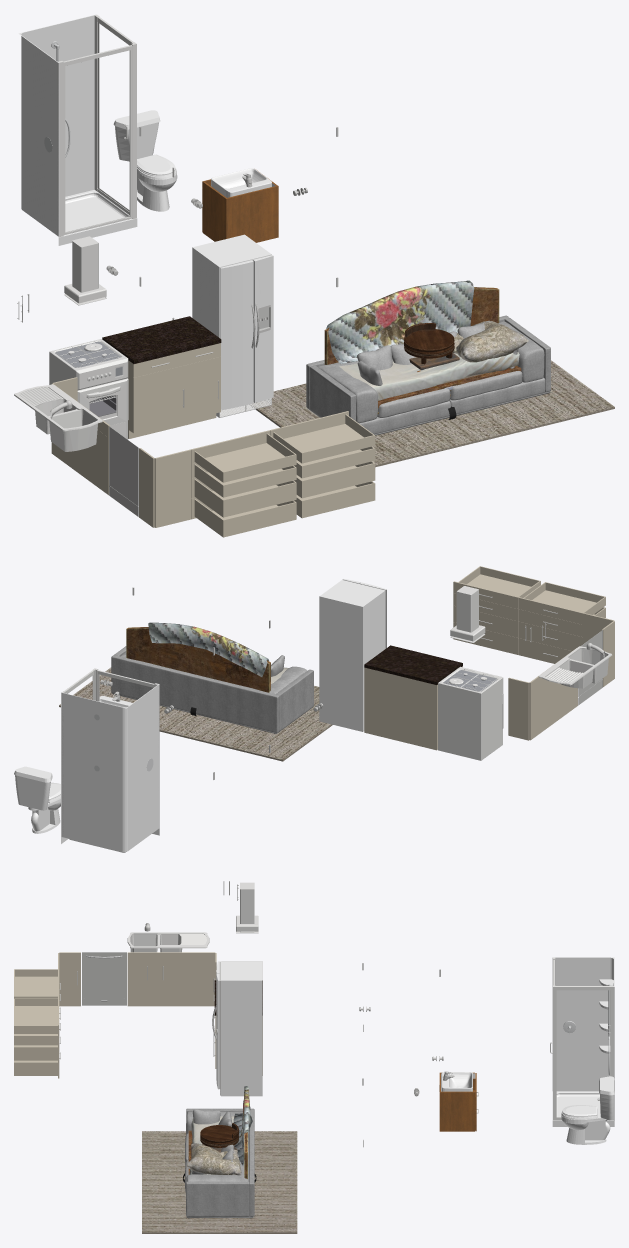
Rendered from scandi-hawk-interior.glb.
3 views of the same model, one above another, from view 1: azimuth 30°, elevation 25°; view 2: azimuth 150°, elevation 25°; view 3: azimuth 270°, elevation 25° (orthographic). The views are drawn at different scales.
Parts seen in each view (by area): view 1: LIB_hawk_fittings, vintage_day_bed, LIB_hawk_sofa, Box001_02 - Default_0, LIB_bar_chair; view 2: LIB_hawk_fittings, LIB_hawk_sofa, vintage_day_bed, Box001_02 - Default_0; view 3: LIB_hawk_fittings, Box001_02 - Default_0, LIB_hawk_sofa, vintage_day_bed, LIB_bar_chair.
Boxes of the visible parts, x1,y1,x2,y2 form: LIB_hawk_fittings: (14, 14, 375, 537); vintage_day_bed: (324, 280, 528, 413); LIB_hawk_sofa: (306, 315, 550, 435); Box001_02 - Default_0: (251, 360, 614, 467); LIB_bar_chair: (404, 323, 454, 364); LIB_hawk_fittings: (14, 566, 614, 852); LIB_hawk_sofa: (111, 646, 313, 733); vintage_day_bed: (126, 622, 288, 692); Box001_02 - Default_0: (59, 667, 332, 761); LIB_hawk_fittings: (14, 881, 614, 1147); Box001_02 - Default_0: (142, 1131, 297, 1233); LIB_hawk_sofa: (185, 1108, 254, 1218); vintage_day_bed: (186, 1086, 252, 1178); LIB_bar_chair: (200, 1123, 239, 1147).
Bounding box in the file's own units: 6.41 × 2.51 × 7.77.
Materials: 34 (21 with a texture image).
